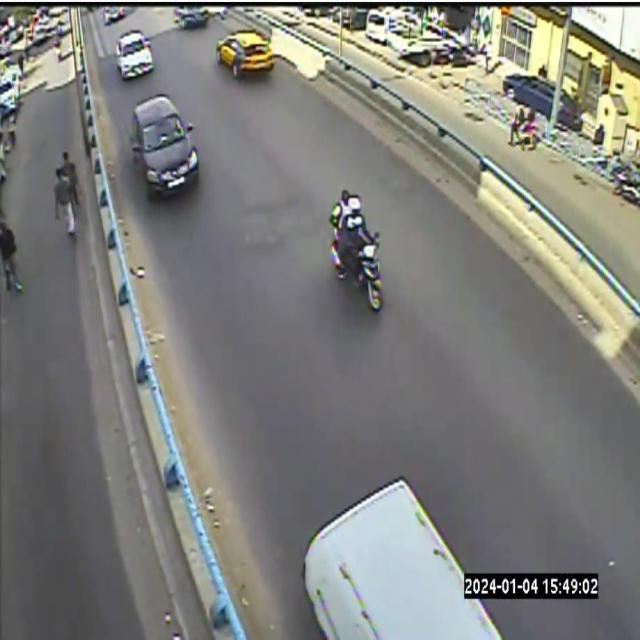car: (303, 478, 502, 639), (129, 93, 199, 197), (216, 31, 274, 77), (115, 31, 154, 80), (174, 6, 209, 29)
